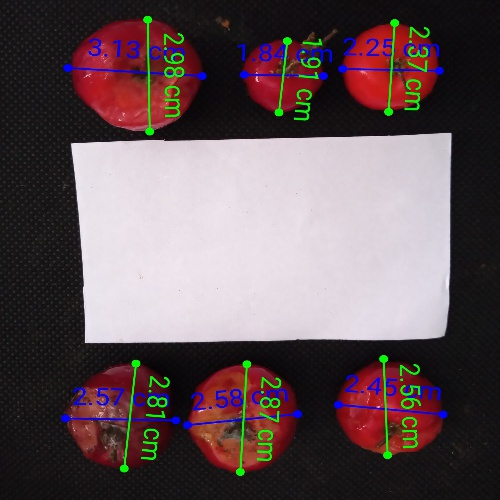acerola: (73, 20, 201, 131), (188, 365, 299, 472), (67, 365, 176, 468), (338, 359, 443, 457), (345, 25, 439, 110), (244, 41, 323, 112)
cartao: (83, 145, 457, 343)
